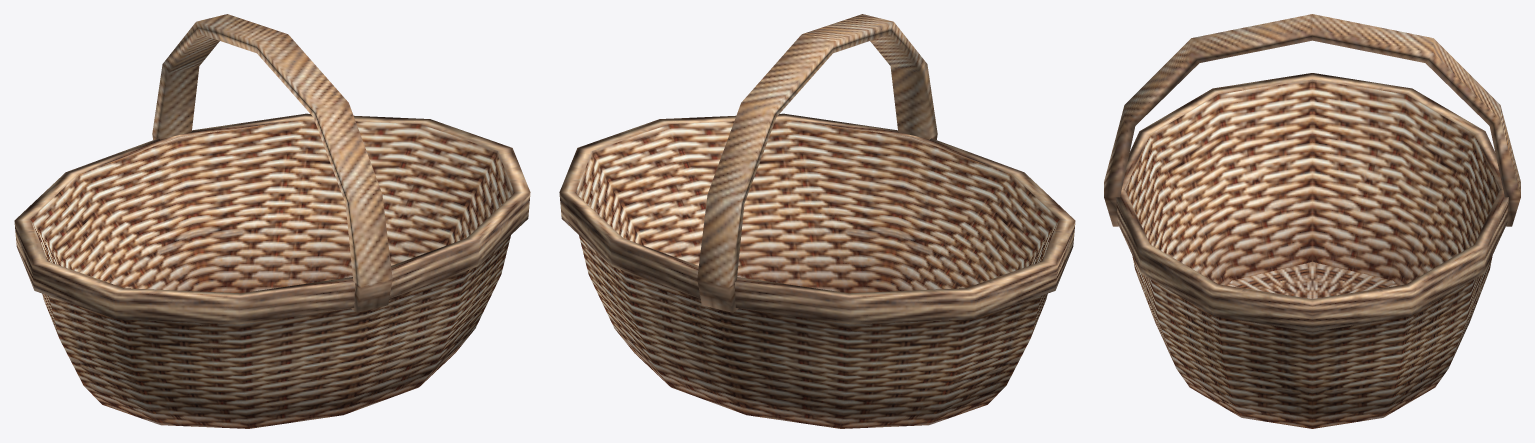
Rendered from basket.fbx.
3 renders of one model, left to right at view 1: azimuth 30°, elevation 25°; view 2: azimuth 150°, elevation 25°; view 3: azimuth 270°, elevation 25°, orthographic.
Parts seen in each view (by area): view 1: basket_Mesh_001, basket_mesh_002; view 2: basket_Mesh_001, basket_mesh_002; view 3: basket_Mesh_001, basket_mesh_002.
Part boxes in pixels (box(x1,y1,x2,y2)): basket_Mesh_001: box(14, 113, 530, 428); basket_mesh_002: box(15, 14, 529, 393); basket_Mesh_001: box(559, 113, 1075, 428); basket_mesh_002: box(560, 14, 1075, 392); basket_Mesh_001: box(1116, 73, 1508, 428); basket_mesh_002: box(1104, 14, 1520, 428).
Size of the model in its own units: 43.97 by 28.45 by 33.14.
